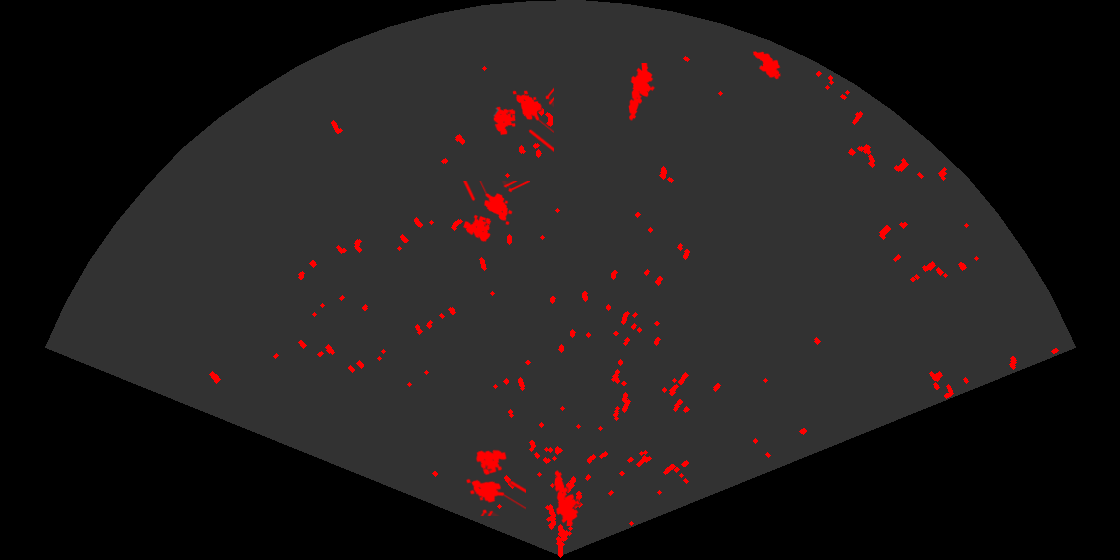AUV: (751, 50, 782, 81)
cage: (461, 181, 530, 243), (492, 86, 554, 153), (465, 448, 526, 516)
frogman: (627, 63, 657, 121), (553, 468, 582, 526)
